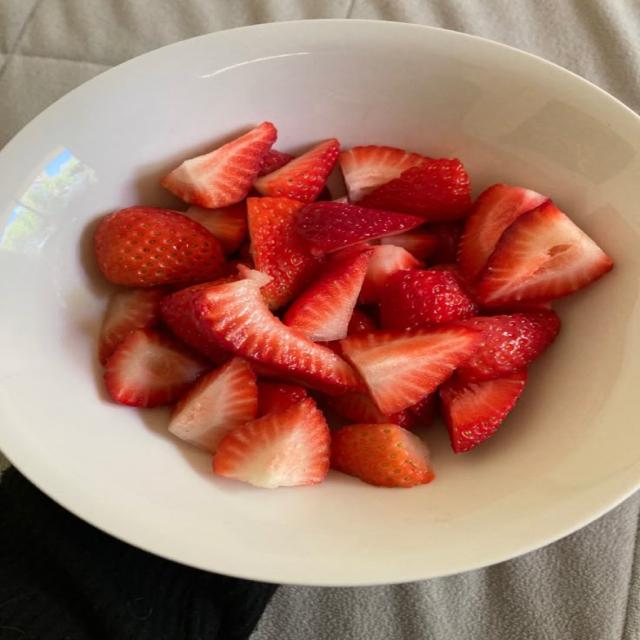strawberry sliced: (178, 278, 361, 393), (478, 201, 613, 306), (341, 327, 481, 414), (94, 207, 224, 287), (214, 398, 330, 487), (161, 122, 276, 208), (458, 184, 546, 282), (283, 246, 373, 341), (169, 358, 258, 454), (105, 329, 210, 407), (247, 198, 318, 309), (458, 311, 559, 381), (440, 370, 526, 452), (359, 159, 471, 221), (161, 276, 237, 365), (298, 202, 423, 254), (332, 425, 434, 487), (380, 269, 478, 329), (254, 139, 339, 202), (99, 288, 166, 364), (339, 146, 427, 202), (359, 245, 422, 304), (327, 393, 418, 429), (185, 203, 246, 255), (257, 381, 307, 417), (380, 229, 438, 260), (421, 222, 462, 264), (258, 149, 294, 177), (408, 393, 438, 426), (347, 308, 378, 335), (347, 308, 377, 335)
